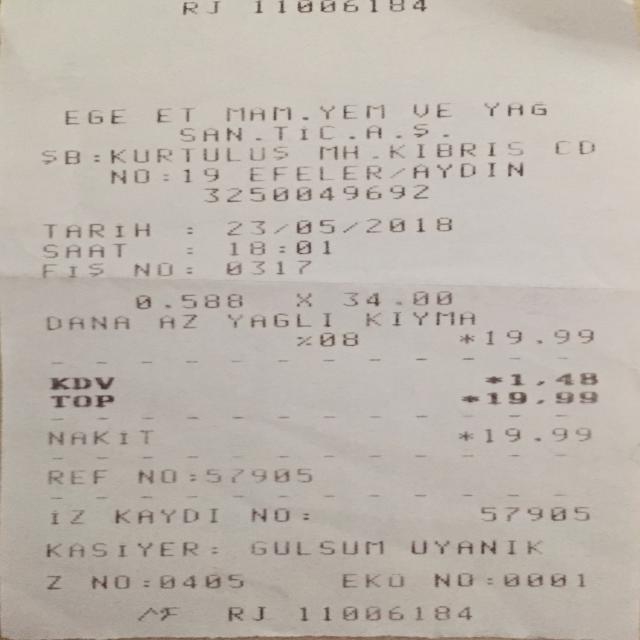text: (176, 120, 444, 142), (204, 183, 431, 204), (296, 602, 472, 624), (316, 140, 523, 158), (225, 218, 451, 234), (225, 102, 385, 122), (107, 145, 289, 162), (44, 538, 197, 558), (247, 0, 432, 15), (410, 536, 540, 557), (249, 537, 383, 557), (246, 164, 382, 181), (134, 290, 242, 310), (364, 309, 475, 328), (205, 466, 312, 484), (411, 161, 524, 178), (44, 221, 150, 239), (226, 311, 330, 329), (113, 506, 217, 524), (480, 504, 588, 521), (486, 389, 596, 405), (485, 329, 593, 345), (484, 426, 590, 442), (45, 313, 129, 332), (41, 240, 126, 258), (225, 240, 334, 254), (343, 290, 452, 304), (501, 571, 585, 589), (46, 429, 152, 443), (223, 259, 311, 275), (332, 572, 410, 590), (509, 370, 596, 386), (62, 105, 125, 127), (483, 98, 547, 119), (157, 574, 245, 588), (36, 261, 106, 278), (47, 468, 106, 486), (49, 375, 112, 390), (155, 104, 195, 126), (553, 136, 597, 156), (130, 259, 178, 277), (227, 602, 265, 624), (411, 99, 450, 120), (49, 393, 112, 406), (89, 571, 129, 591), (41, 146, 82, 165), (426, 572, 474, 588), (158, 312, 198, 331), (108, 167, 150, 185), (133, 605, 177, 622), (250, 505, 289, 524), (136, 467, 174, 485), (173, 0, 225, 13), (182, 166, 218, 184), (49, 507, 83, 525), (318, 331, 358, 345), (292, 292, 316, 307), (460, 388, 478, 406), (45, 572, 61, 591), (458, 329, 474, 346), (485, 371, 502, 387), (457, 426, 473, 442), (186, 259, 198, 277), (92, 145, 100, 165), (161, 165, 169, 185), (210, 537, 217, 558), (142, 571, 149, 591), (185, 219, 192, 238), (302, 505, 309, 524), (182, 243, 193, 254), (188, 466, 194, 485), (486, 570, 492, 589)
